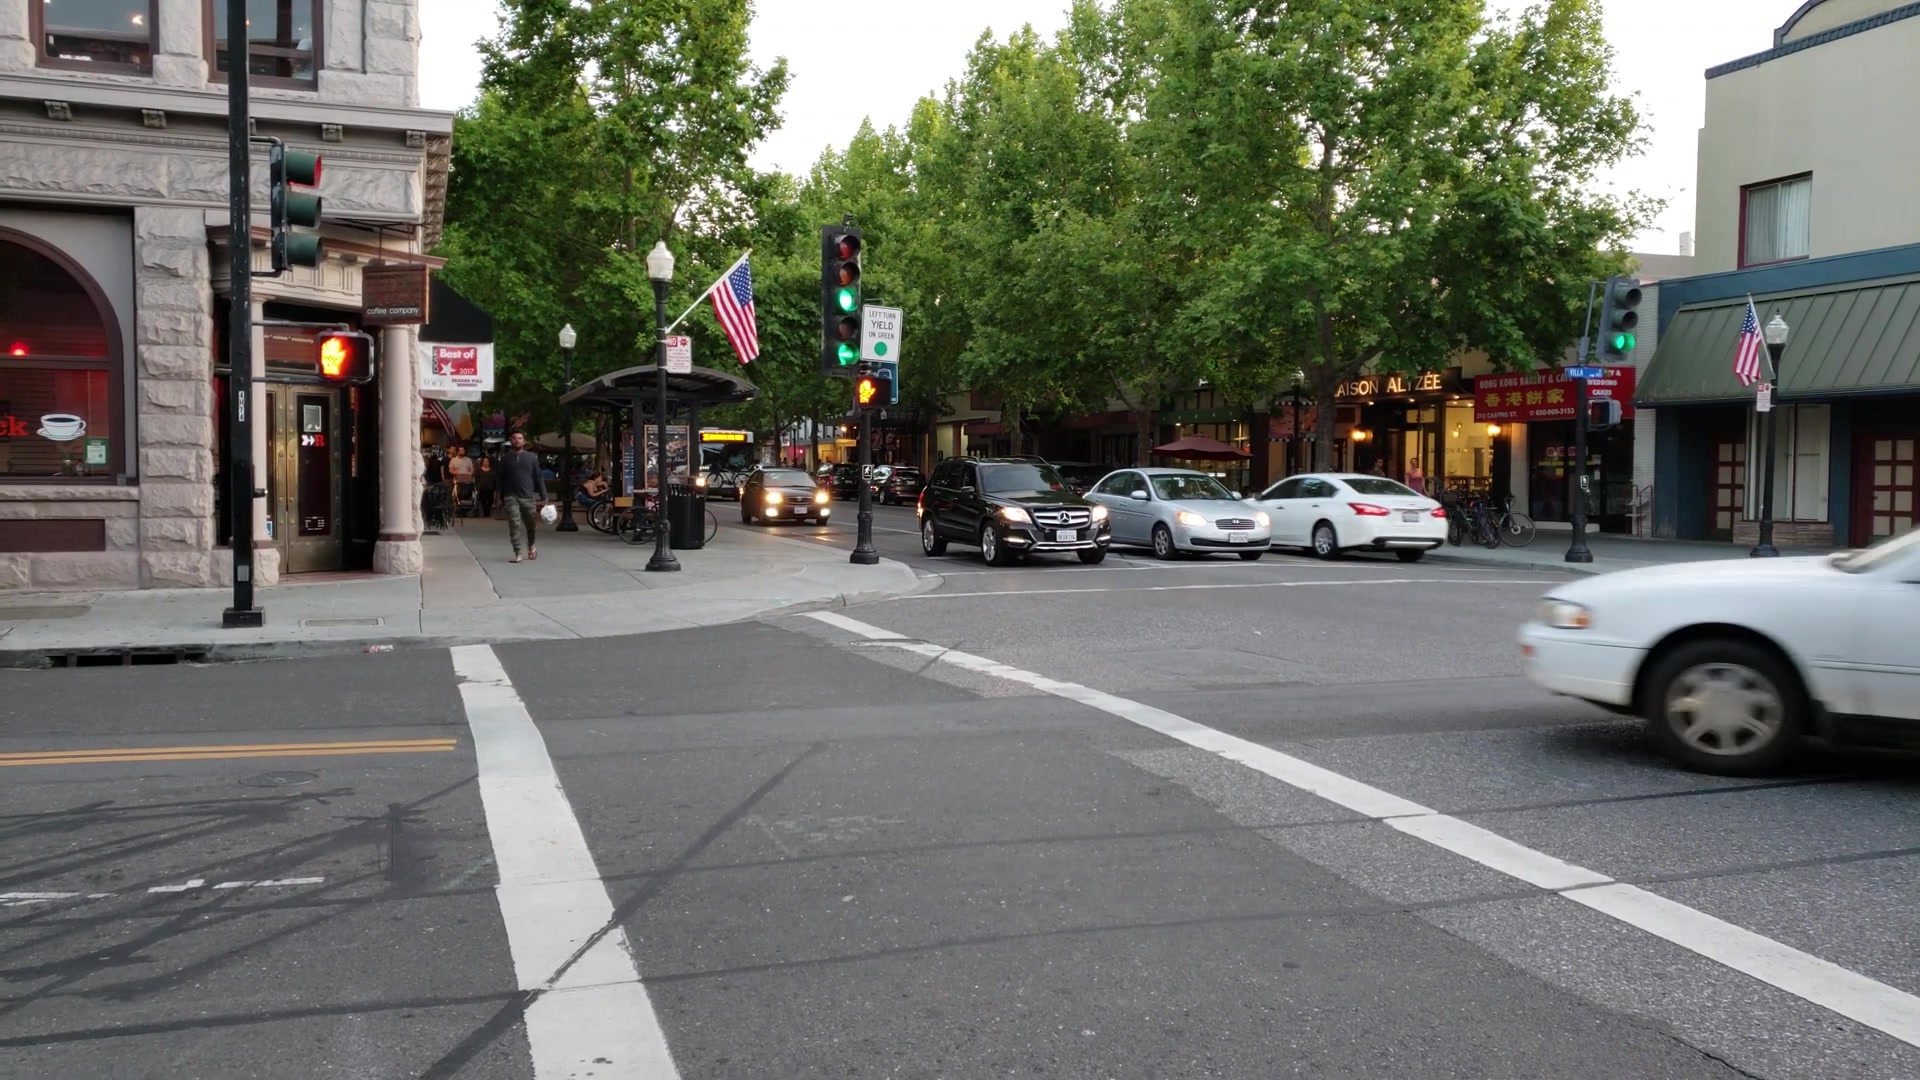vehicle: (916, 455, 1112, 564), (1088, 465, 1271, 560), (742, 465, 831, 524)
